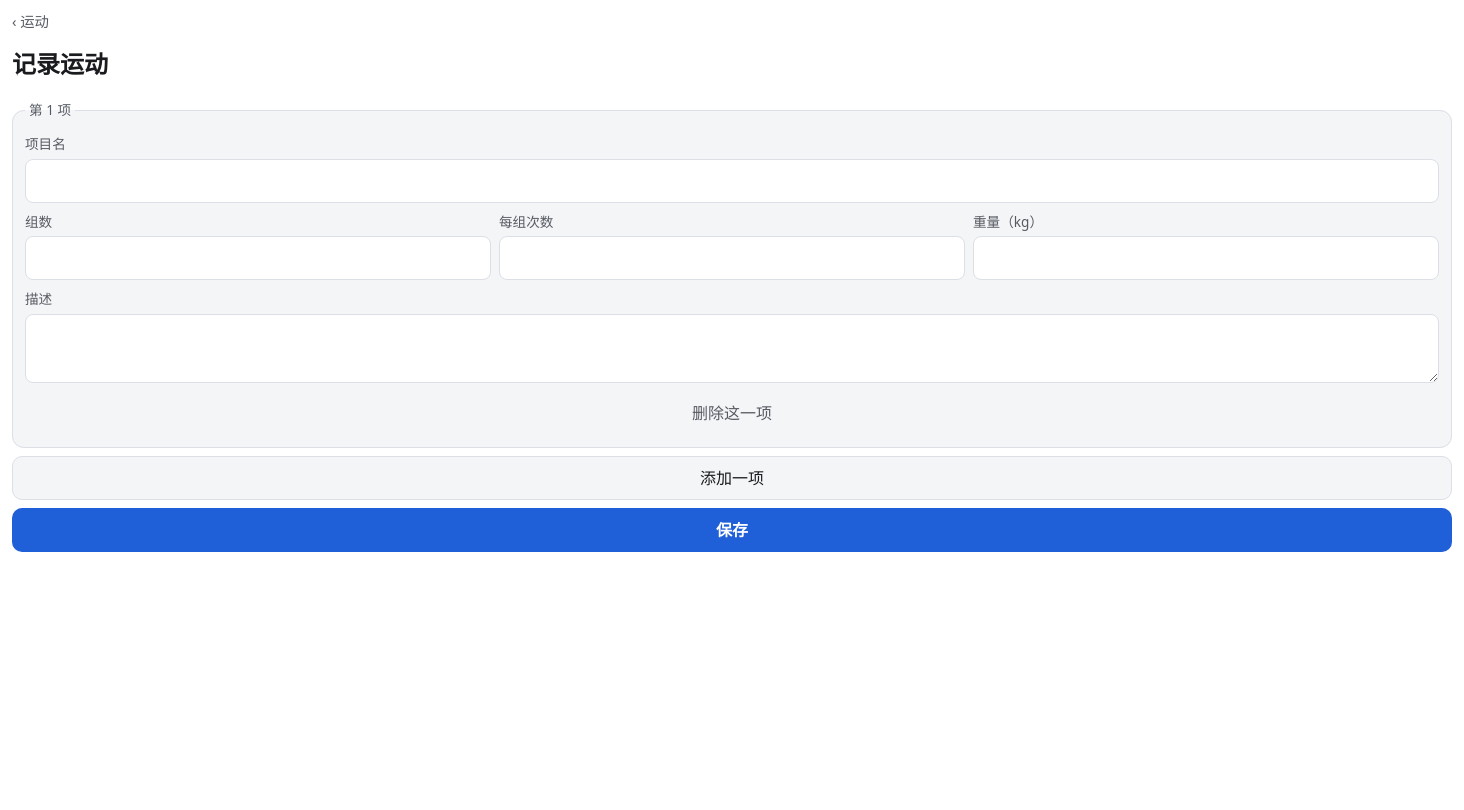
Test case: 录入页 › 项目名为空时拦住保存并就地提示
Type "4" into the field labelled "组数" at (258, 258), box left=25, top=236, right=491, bottom=280
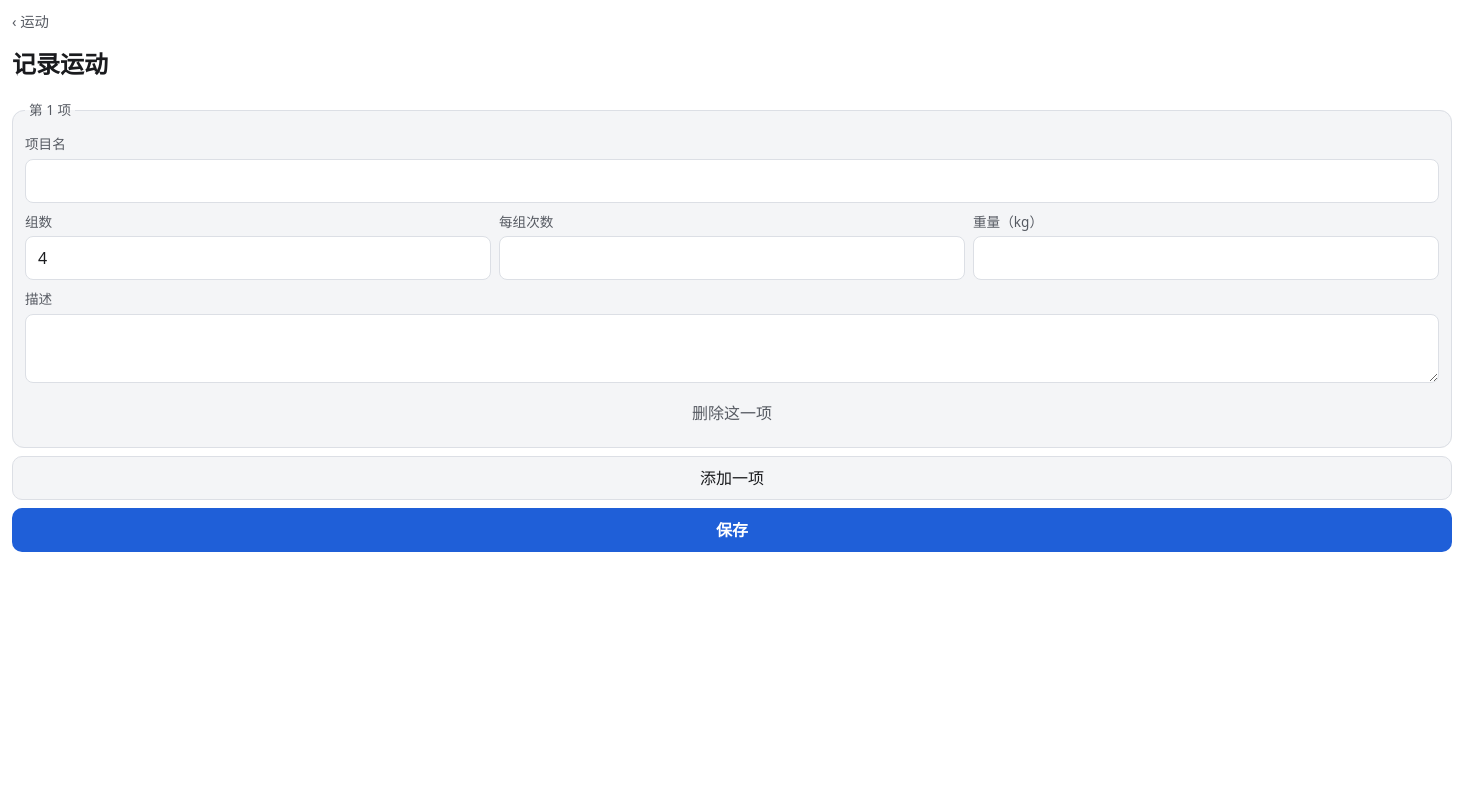
Click the button "保存" at (732, 530), box left=12, top=508, right=1452, bottom=552
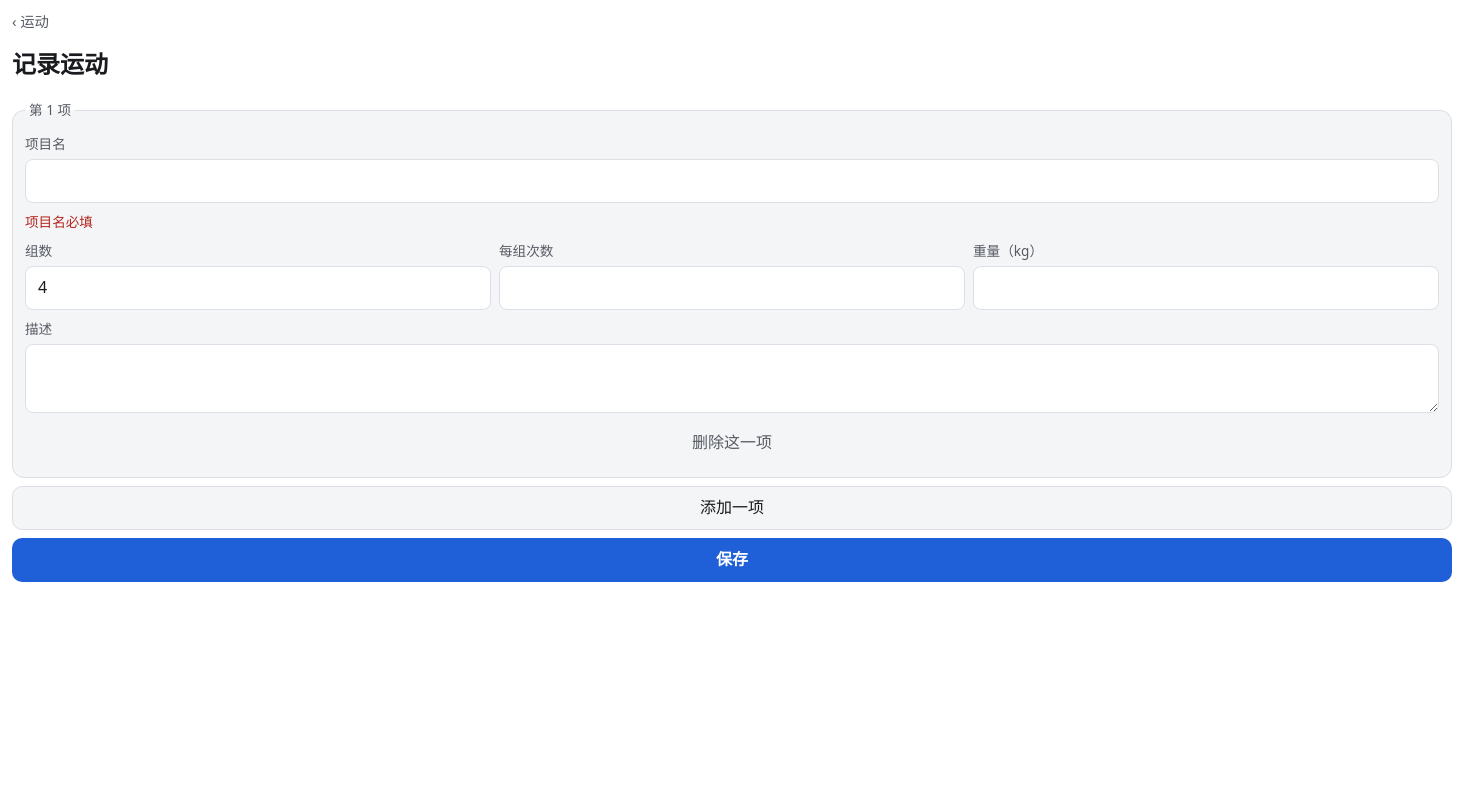
Check: the text "项目名必填" is shown, box left=25, top=212, right=93, bottom=231
